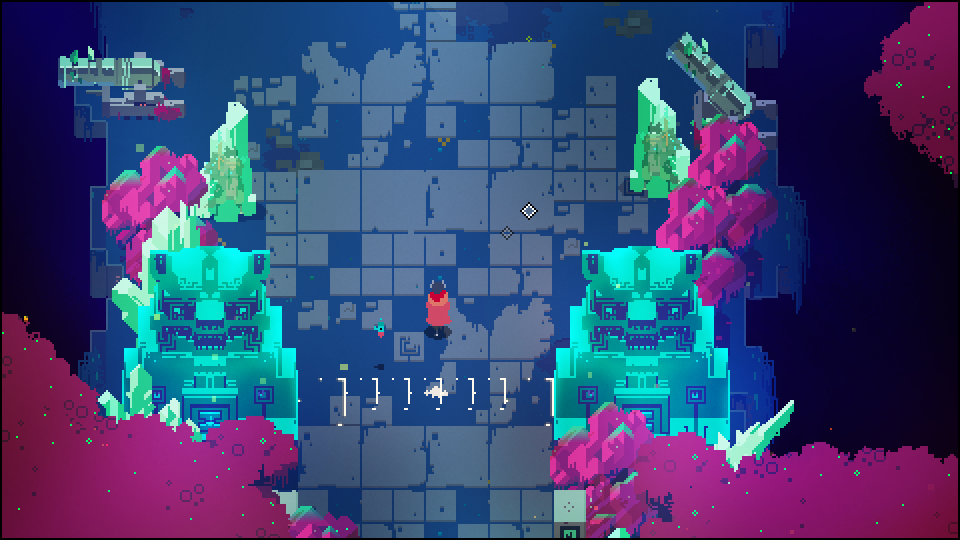player: (424, 277, 451, 335)
